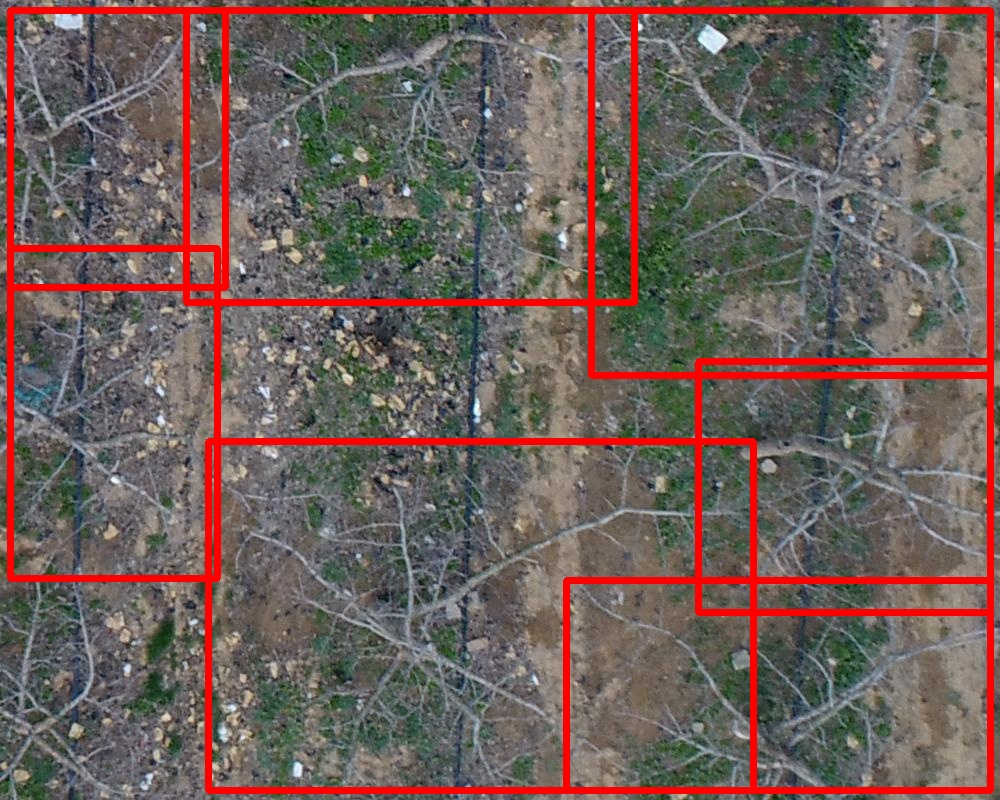apple: (208, 441, 753, 790), (591, 10, 990, 375), (186, 10, 634, 302), (566, 580, 990, 790), (698, 361, 990, 612), (10, 248, 217, 578), (10, 10, 225, 287)
